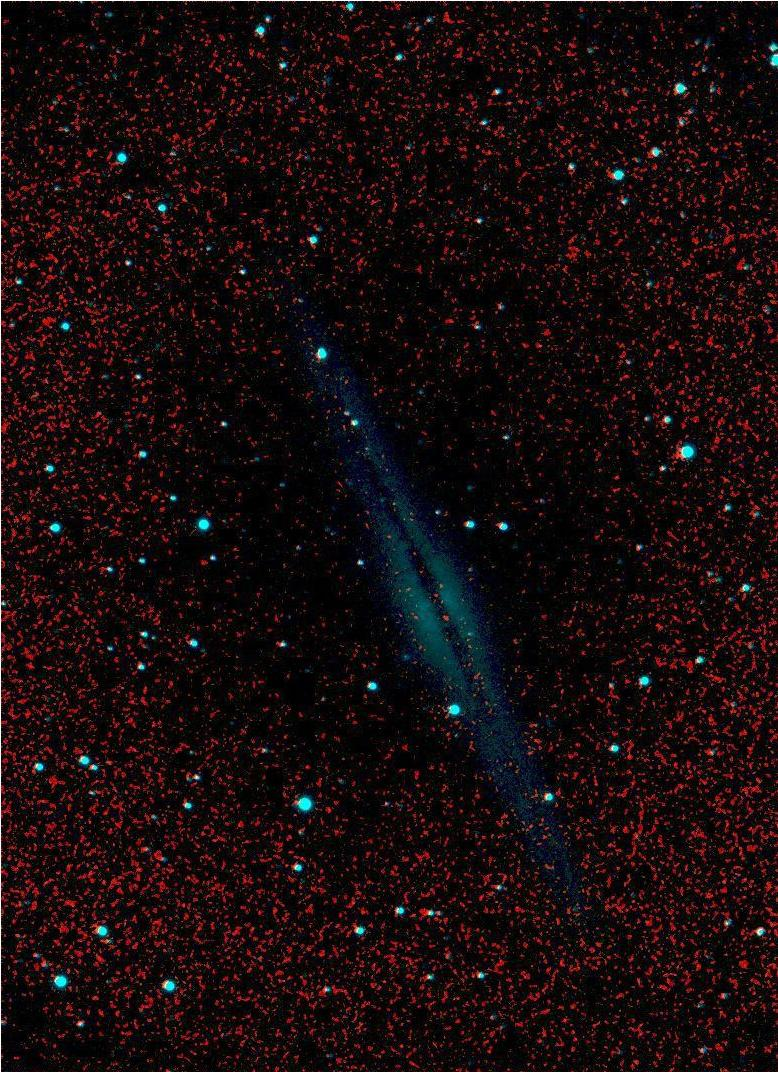star: (431, 604, 461, 634)
